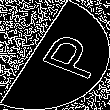P_NW: (14, 27, 96, 83)
